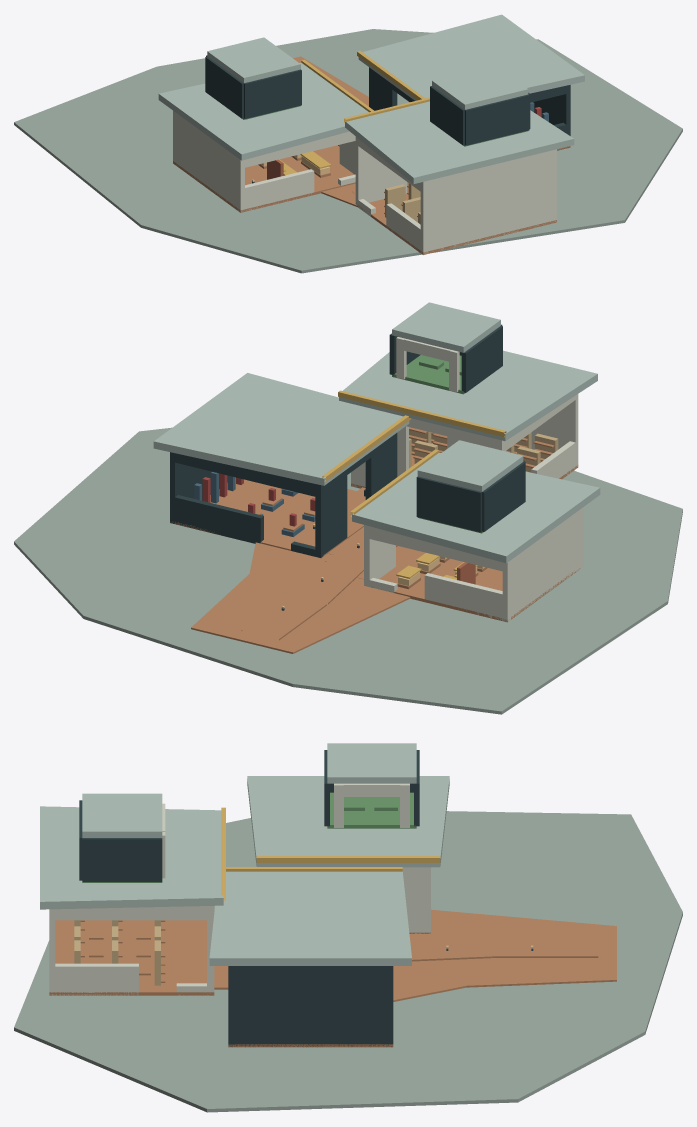
The model's file is a50_three_deep_rooms.obj.
3 views of the same model, one above another, from view 1: azimuth 30°, elevation 25°; view 2: azimuth 150°, elevation 25°; view 3: azimuth 270°, elevation 25° (orthographic). The views are drawn at different scales.
Bounding box in the file's own units: 151 × 37.1 × 142.
